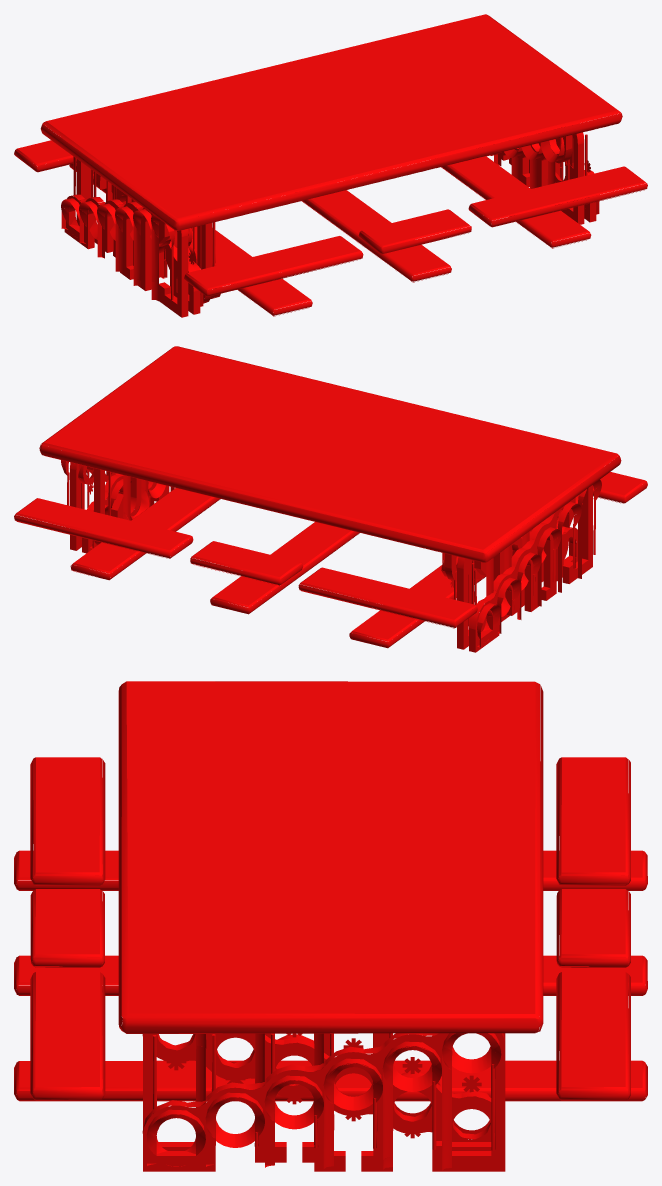
Rendered from BoardROOMTABLE-RED-v76.glb.
3 views of the same model, one above another, from view 1: azimuth 30°, elevation 25°; view 2: azimuth 150°, elevation 25°; view 3: azimuth 270°, elevation 25° (orthographic). The views are drawn at different scales.
Parts seen in each view (by area): view 1: BoardROOMTABLE- RED; view 2: BoardROOMTABLE- RED; view 3: BoardROOMTABLE- RED.
Part boxes in pixels (left/top/right/bottom): BoardROOMTABLE- RED: left=14, top=14, right=647, bottom=317; BoardROOMTABLE- RED: left=14, top=346, right=647, bottom=652; BoardROOMTABLE- RED: left=14, top=681, right=647, bottom=1171.
Bounding box in the file's own units: 5.09 × 1.19 × 4.03.
